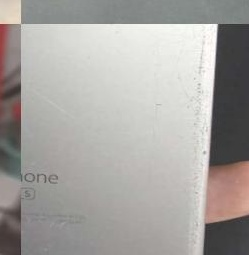scratch: (21, 148, 123, 255), (185, 24, 228, 255), (21, 80, 91, 125), (140, 72, 190, 130)
